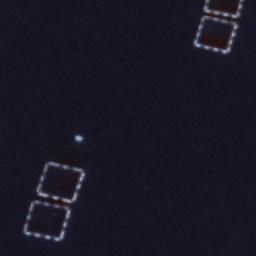square_solid: (34, 160, 89, 206), (20, 197, 73, 244), (192, 13, 239, 56), (200, 1, 246, 19)
